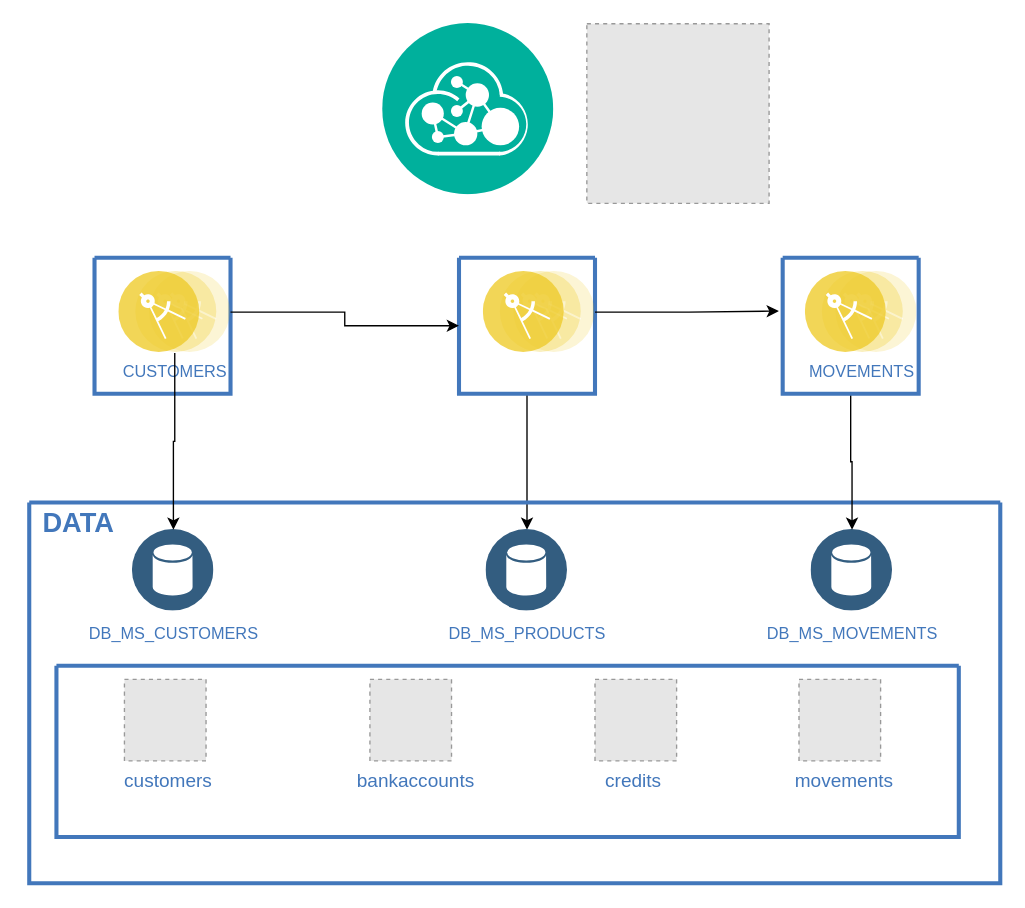
The diagram is 1025 pixels wide and 908 high, and some of its shapes have lost their labels. Grey dashed boxes stand in for pictures. The shapes that lost their labels are listed below. From the top down, each one's centre as x and y in pixels, then its label:
At point 468,108: "CLOUD".
At point 538,311: "PRODUCTS".
At point 507,750: "collections".
